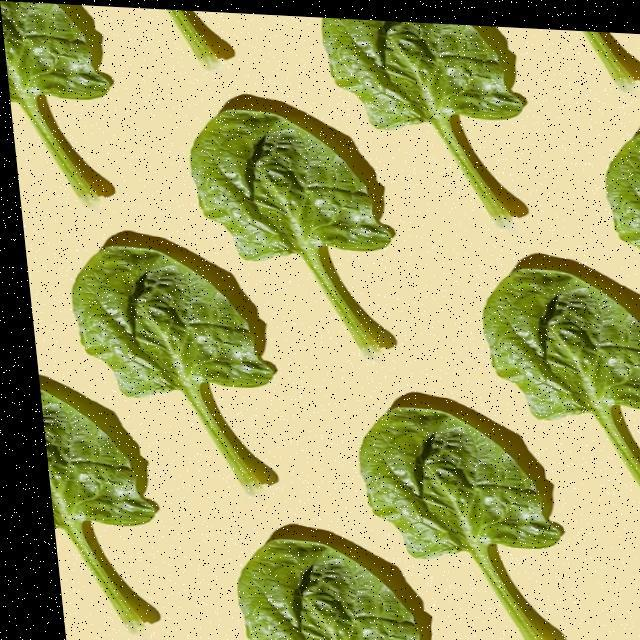Spinach: (179, 101, 414, 357), (49, 238, 281, 491), (337, 394, 570, 640), (313, 13, 540, 223), (471, 260, 640, 506), (31, 386, 160, 637), (0, 0, 128, 213), (214, 531, 434, 640), (589, 119, 640, 282), (618, 541, 640, 640)
